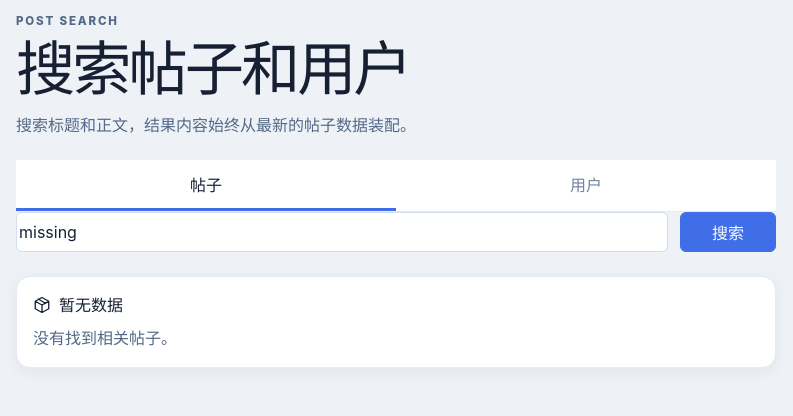
Test: SearchView › shows empty and unavailable states and keeps searches on Backend relative paths
Replace the text in the field named "q" with "retry": (342, 232) [16,212,668,252]
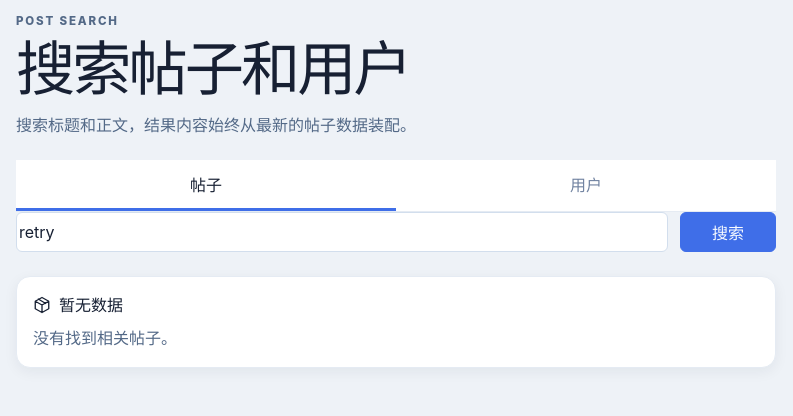
Submit the form, box [16,212,776,252]
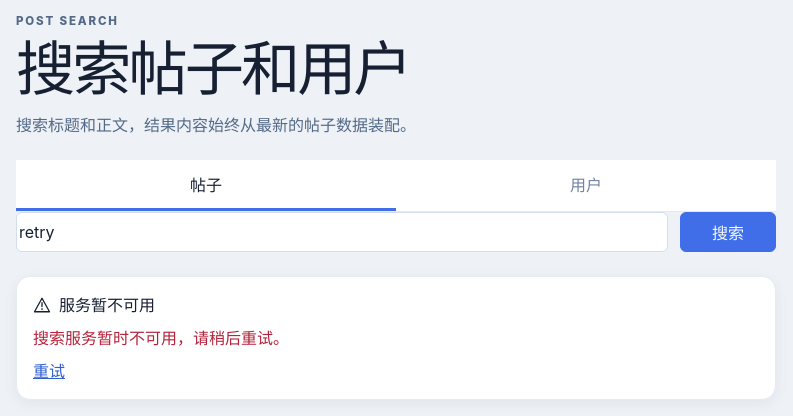
Result: the text "搜索服务暂时不可用" is shown at [33,328,289,348]
